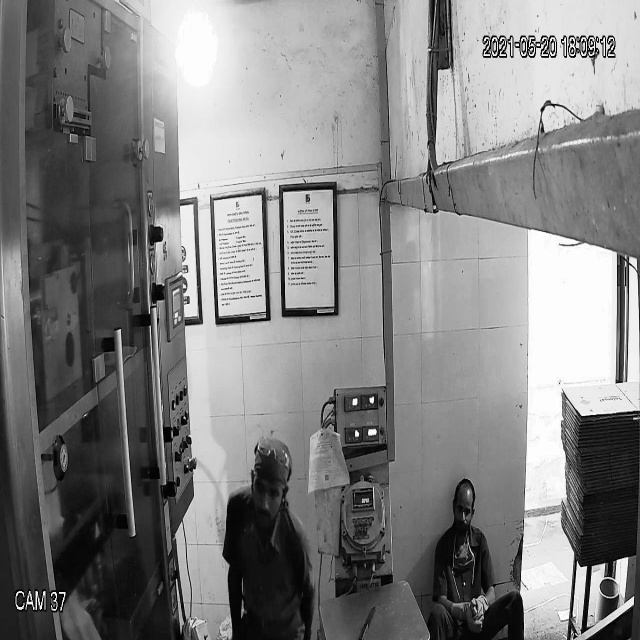Sin_gafas: (248, 472, 289, 508), (446, 494, 475, 523)
